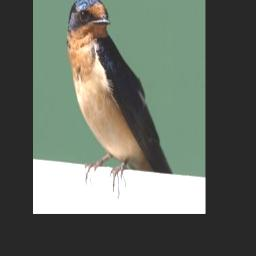Swallow: (68, 0, 173, 192)
